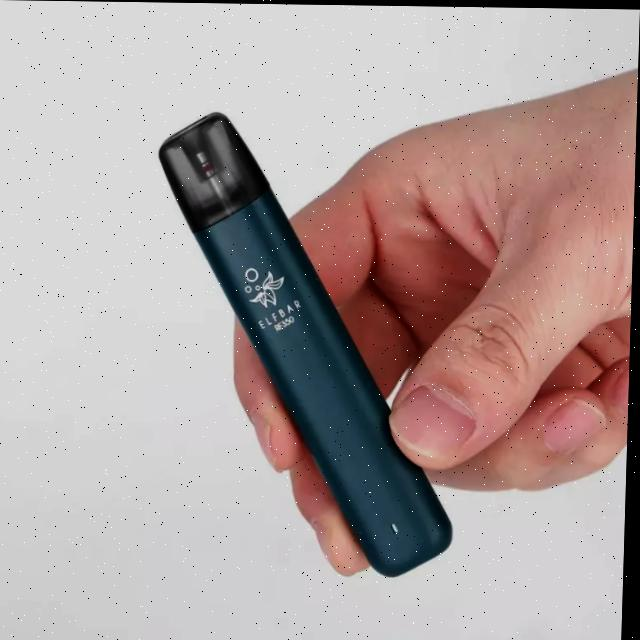vape: (152, 110, 468, 573)
